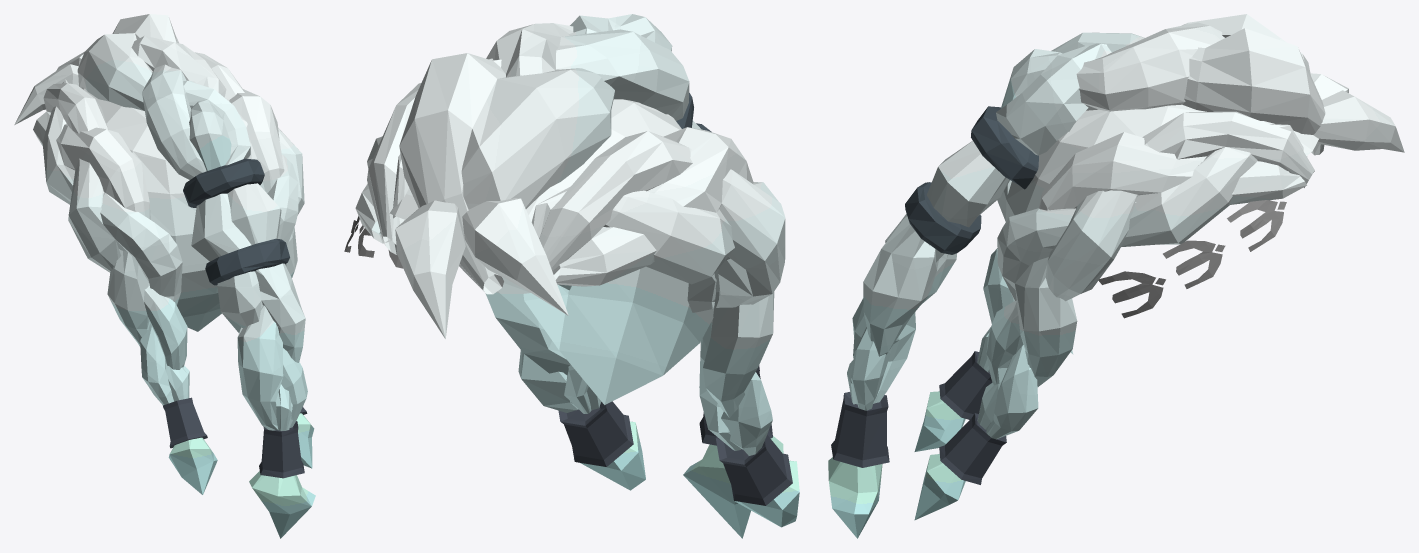
The model's file is CharSkyKid_Hair_AP13TattooBraids_01.glb.
The picture shows the model from 3 angles, left to right: view 1: azimuth 30°, elevation 25°; view 2: azimuth 150°, elevation 25°; view 3: azimuth 270°, elevation 25°; orthographic projection. The views are drawn at different scales.
Parts seen in each view (by area): view 1: CharSkyKid_Hair_AP13TattooBraids_01; view 2: CharSkyKid_Hair_AP13TattooBraids_01; view 3: CharSkyKid_Hair_AP13TattooBraids_01.
Part boxes in pixels (x1,y1,x2,y2): CharSkyKid_Hair_AP13TattooBraids_01: (14,14,315,538); CharSkyKid_Hair_AP13TattooBraids_01: (344,14,799,538); CharSkyKid_Hair_AP13TattooBraids_01: (828,14,1404,538).
Size of the model in its own units: 2.49 by 4.24 by 4.23.
Materials: 1 (1 with a texture image).
